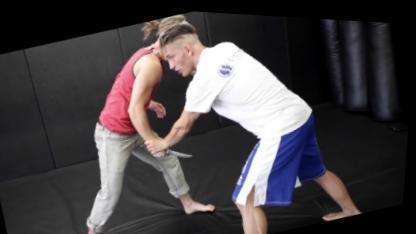knife: (148, 132, 202, 169)
